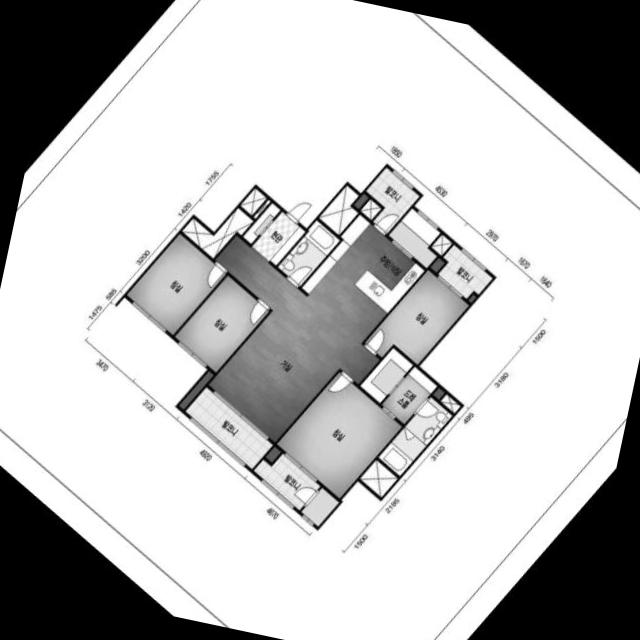background: (0, 0, 640, 640)
space_balconi: (184, 387, 272, 469), (253, 453, 320, 510), (365, 167, 419, 234), (437, 244, 492, 299)
space_bedroom: (276, 372, 401, 499), (126, 234, 225, 335), (364, 270, 468, 365), (174, 275, 268, 372)
space_dressroom: (359, 347, 437, 424)
space_front: (242, 203, 305, 265)
space_kitchen: (301, 214, 424, 342)
space_living_room: (208, 235, 379, 442)
space_other: (181, 208, 253, 258), (388, 208, 440, 268), (318, 185, 358, 235), (300, 487, 338, 527), (359, 459, 397, 497), (178, 371, 213, 409), (239, 188, 266, 215), (430, 234, 452, 256), (359, 199, 381, 220), (439, 394, 460, 413), (252, 199, 270, 219), (265, 446, 280, 462), (353, 193, 368, 209), (430, 258, 444, 272), (432, 387, 444, 399), (467, 294, 475, 303)
space_toilet: (377, 397, 451, 476), (277, 220, 339, 286)
